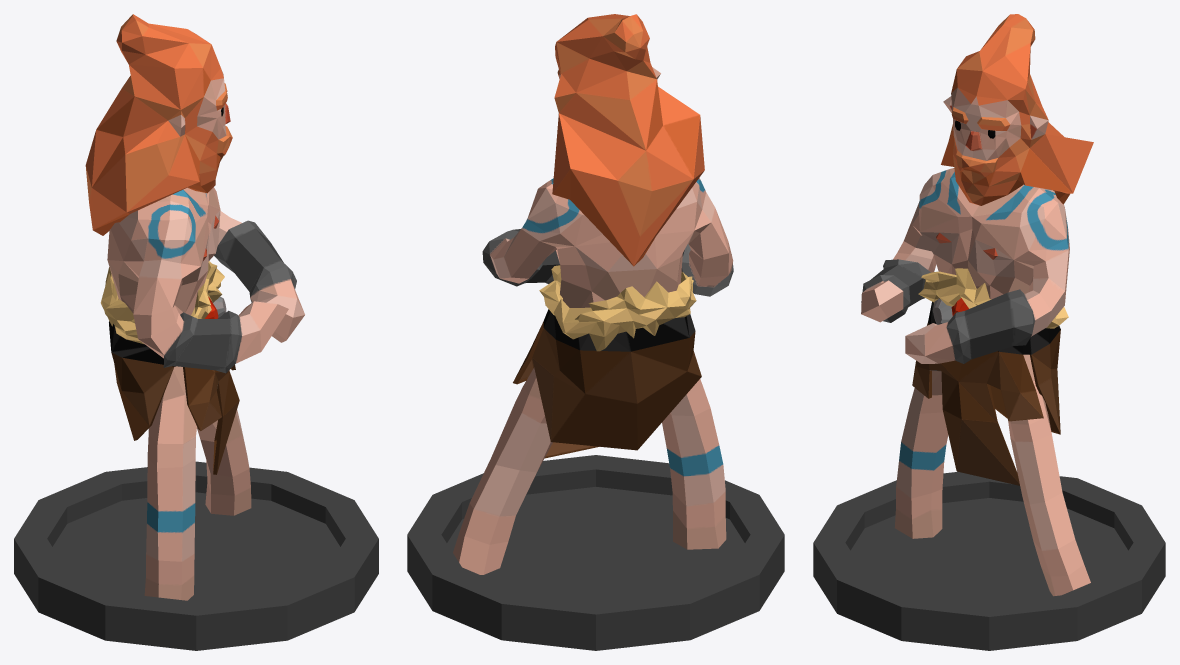
The model's file is 3D_Main_Character_Thor.fbx.
3 views of the same model, side by side, from view 1: azimuth 30°, elevation 25°; view 2: azimuth 150°, elevation 25°; view 3: azimuth 270°, elevation 25° (orthographic). The views are drawn at different scales.
Visible parts, largest first — view 1: SM_thor_01, SM_thor_base; view 2: SM_thor_01, SM_thor_base; view 3: SM_thor_01, SM_thor_base.
Boxes of the visible parts, box(x1,y1,x2,y2) form: SM_thor_01: box(85, 14, 304, 600); SM_thor_base: box(14, 461, 378, 650); SM_thor_01: box(453, 14, 733, 574); SM_thor_base: box(407, 455, 784, 650); SM_thor_01: box(861, 14, 1093, 596); SM_thor_base: box(813, 471, 1165, 650).
Bounding box in the file's own units: 138 × 233 × 138.
2 materials, 2 textured.
